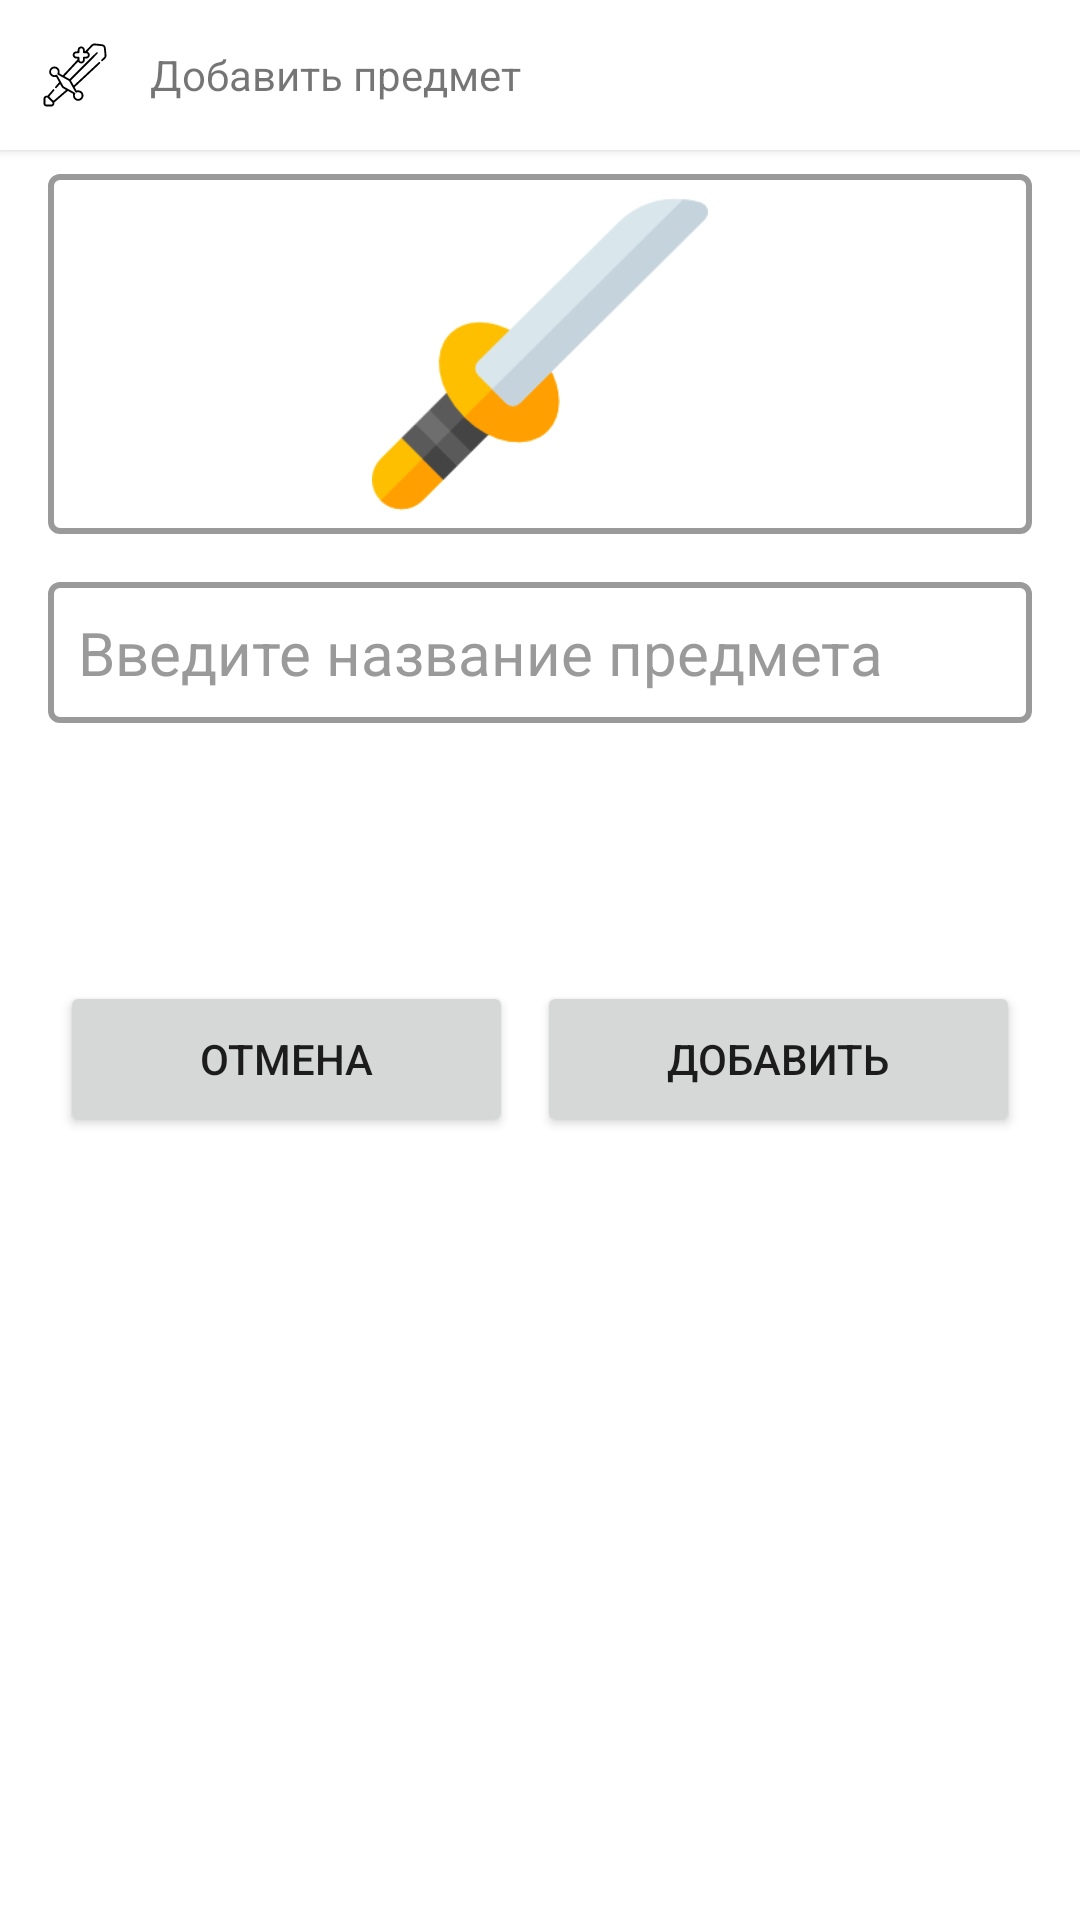

Icon bounding boxes for this 1080w x 1920h phone screenshot, format (x1, y1, x2, y2):
item add: (43, 43, 107, 107)
